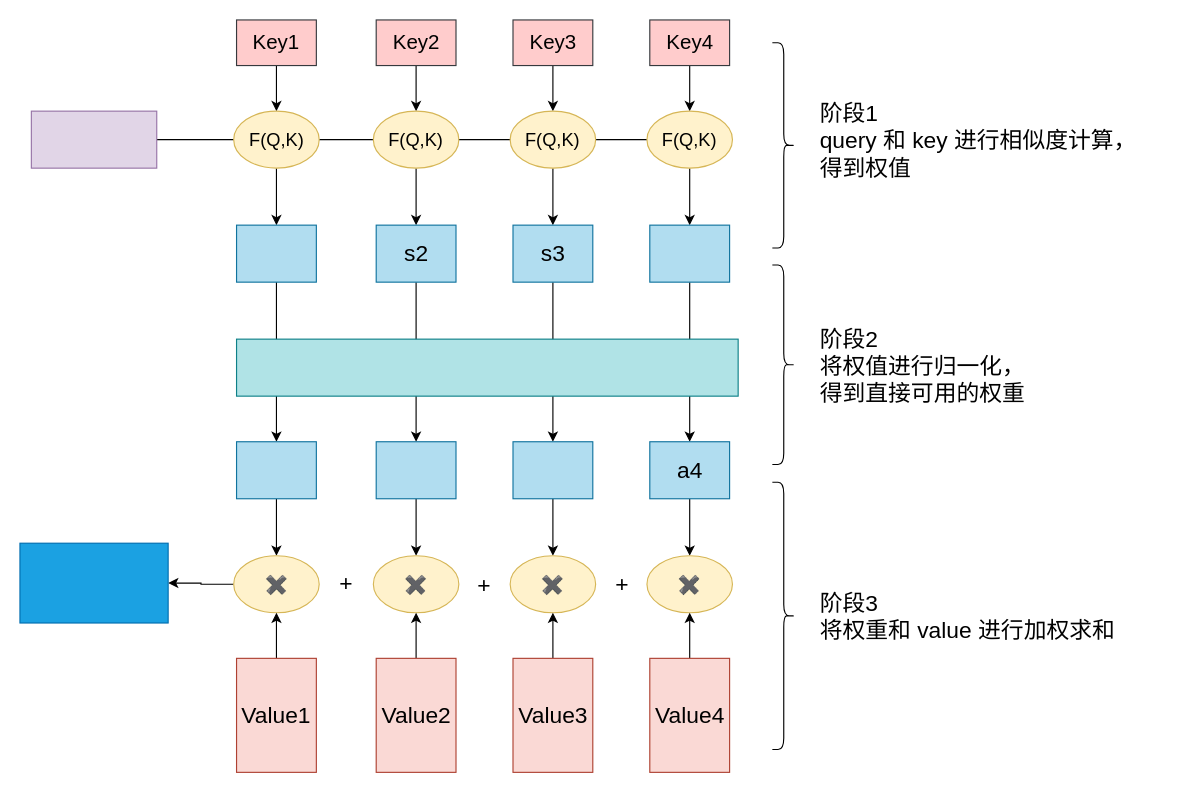
Some shapes in this 1180 by 792 pixel diagram are drawn without their labels. The centre of each missing label's shape, as x and y in pixels:
"a1" goes at pixel 275 470.
"a2" goes at pixel 415 470.
"a3" goes at pixel 552 470.
"Attention Value" goes at pixel 93 582.
"Query" goes at pixel 93 139.
"s1" goes at pixel 275 253.
"s4" goes at pixel 689 253.
"类SoftMax() 归一化" goes at pixel 486 367.
